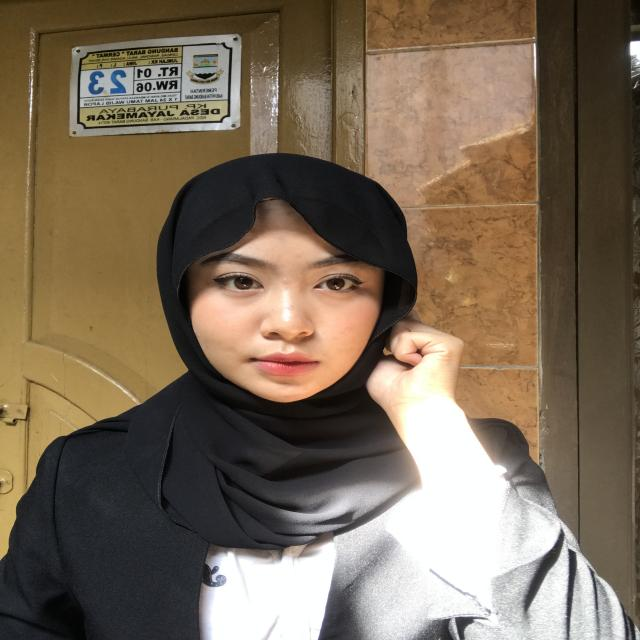ibu: (323, 294, 585, 572)
